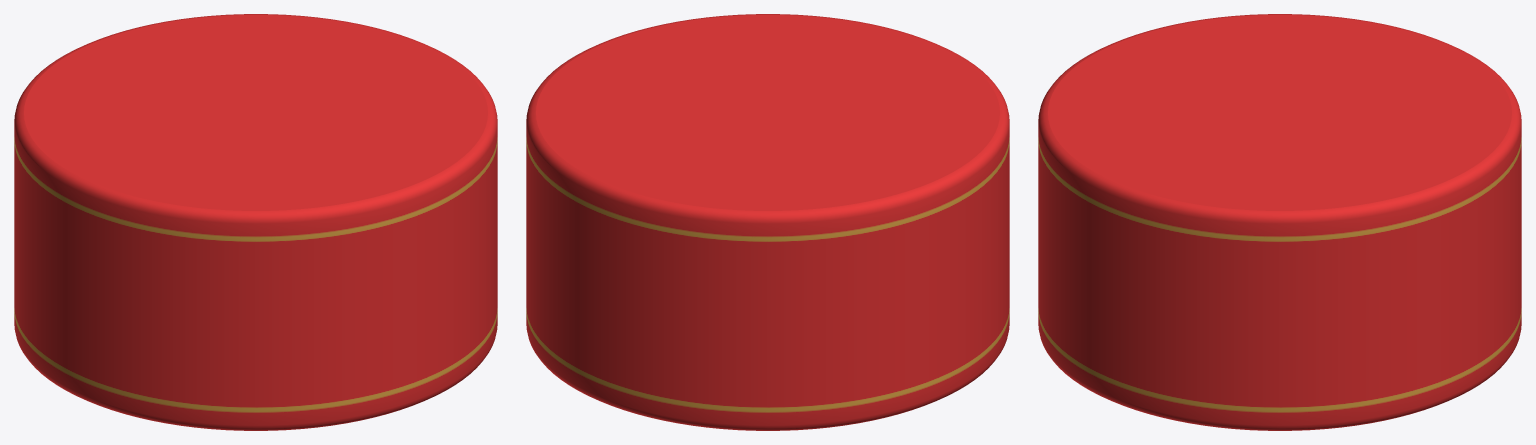
Rendered from tsumiki_goldline.fbx.
3 views of the same model, side by side, from view 1: azimuth 30°, elevation 25°; view 2: azimuth 150°, elevation 25°; view 3: azimuth 270°, elevation 25° (orthographic).
Parts seen in each view (by area): view 1: tsumiki_red_goldline; view 2: tsumiki_red_goldline; view 3: tsumiki_red_goldline.
Boxes of the visible parts, x1,y1,x2,y2 form: tsumiki_red_goldline: [14, 14, 497, 430]; tsumiki_red_goldline: [526, 14, 1009, 430]; tsumiki_red_goldline: [1038, 14, 1521, 430].
Size of the model in its own units: 1 by 0.5 by 1.
1 material, 1 textured.
